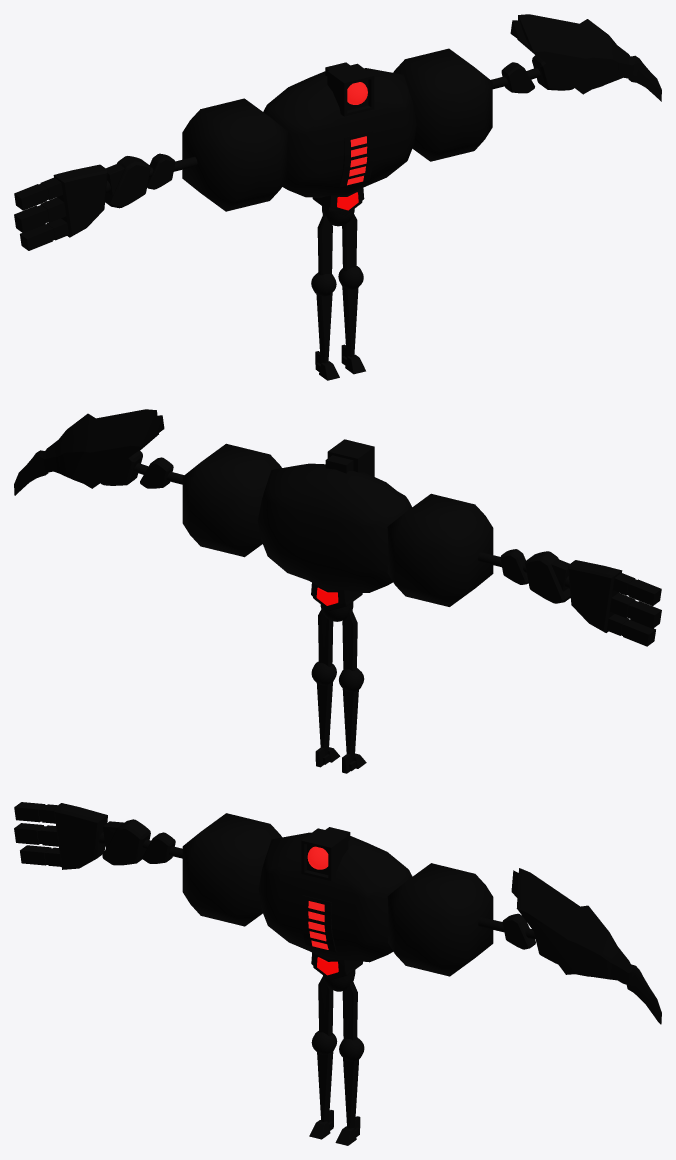
Rendered from RobotGrande.fbx.
The picture shows the model from 3 angles, top to bottom: view 1: azimuth 30°, elevation 25°; view 2: azimuth 150°, elevation 25°; view 3: azimuth 330°, elevation 25°; orthographic projection.
Parts seen in each view (by area): view 1: polySurface31, polySurface57, polySurface34, polySurface77, polySurface61, polySurface63, polySurface58, polySurface76, polySurface36, polySurface55, polySurface38, polySurface70 (+2 smaller); view 2: polySurface31, polySurface57, polySurface34, polySurface77, polySurface61, polySurface63, polySurface76, polySurface36, polySurface58, polySurface38, polySurface70, polySurface40; view 3: polySurface31, polySurface57, polySurface34, polySurface77, polySurface63, polySurface61, polySurface58, polySurface76, polySurface36, polySurface55, polySurface38, polySurface70 (+2 smaller).
Part boxes in pixels (x1=…): polySurface31: x1=182, y1=48, x2=492, y2=211; polySurface57: x1=263, y1=68, x2=416, y2=197; polySurface34: x1=517, y1=14, x2=661, y2=101; polySurface77: x1=105, y1=55, x2=574, y2=208; polySurface61: x1=14, y1=177, x2=68, y2=250; polySurface63: x1=53, y1=164, x2=107, y2=237; polySurface58: x1=325, y1=62, x2=374, y2=116; polySurface76: x1=316, y1=286, x2=358, y2=363; polySurface36: x1=317, y1=214, x2=357, y2=275; polySurface55: x1=339, y1=130, x2=373, y2=187; polySurface38: x1=311, y1=266, x2=363, y2=296; polySurface70: x1=315, y1=344, x2=365, y2=380; polySurface31: x1=182, y1=443, x2=493, y2=606; polySurface57: x1=257, y1=463, x2=412, y2=592; polySurface34: x1=14, y1=409, x2=158, y2=495; polySurface77: x1=100, y1=450, x2=570, y2=603; polySurface61: x1=606, y1=573, x2=661, y2=646; polySurface63: x1=568, y1=560, x2=622, y2=632; polySurface76: x1=316, y1=682, x2=358, y2=761; polySurface36: x1=318, y1=609, x2=357, y2=670; polySurface58: x1=325, y1=439, x2=374, y2=476; polySurface38: x1=311, y1=661, x2=364, y2=691; polySurface70: x1=315, y1=747, x2=366, y2=773; polySurface40: x1=134, y1=463, x2=569, y2=588; polySurface31: x1=182, y1=813, x2=493, y2=976; polySurface57: x1=258, y1=832, x2=412, y2=962; polySurface34: x1=516, y1=868, x2=661, y2=1024; polySurface77: x1=102, y1=819, x2=557, y2=964; polySurface63: x1=53, y1=803, x2=107, y2=869; polySurface61: x1=14, y1=802, x2=61, y2=866; polySurface58: x1=301, y1=827, x2=350, y2=881; polySurface76: x1=317, y1=1051, x2=359, y2=1128; polySurface36: x1=318, y1=976, x2=357, y2=1040; polySurface55: x1=302, y1=895, x2=336, y2=952; polySurface38: x1=311, y1=1031, x2=364, y2=1061; polySurface70: x1=309, y1=1110, x2=360, y2=1145.
Size of the model in its own units: 467 by 215 by 59.37.
